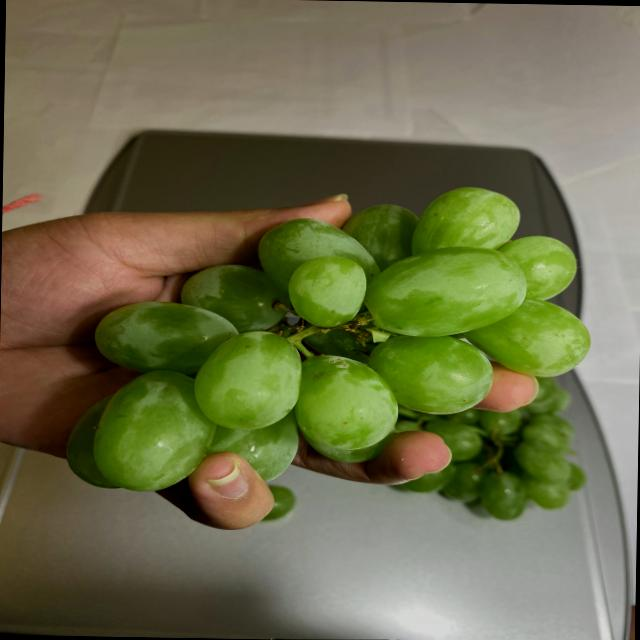grapes: (65, 174, 598, 506)
